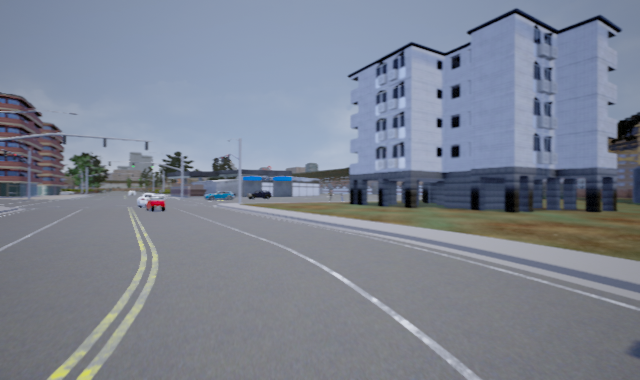vehicle: (205, 190, 235, 202), (137, 192, 159, 208), (146, 196, 166, 212), (245, 190, 272, 200)
